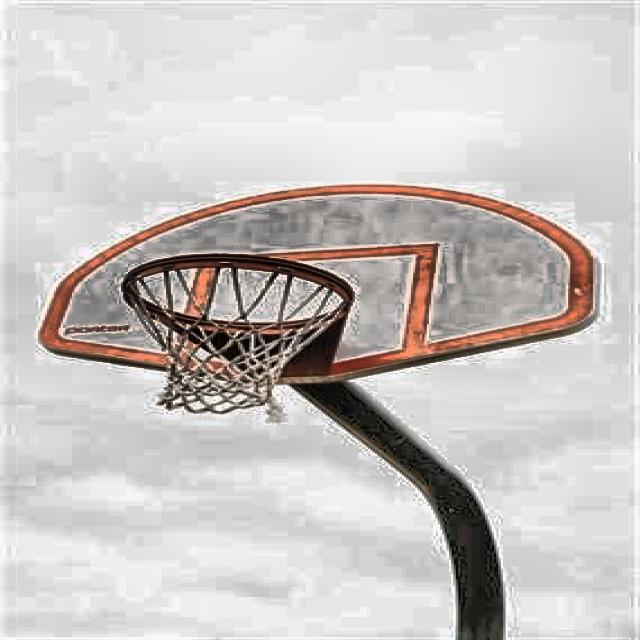rim: (124, 254, 352, 414)
